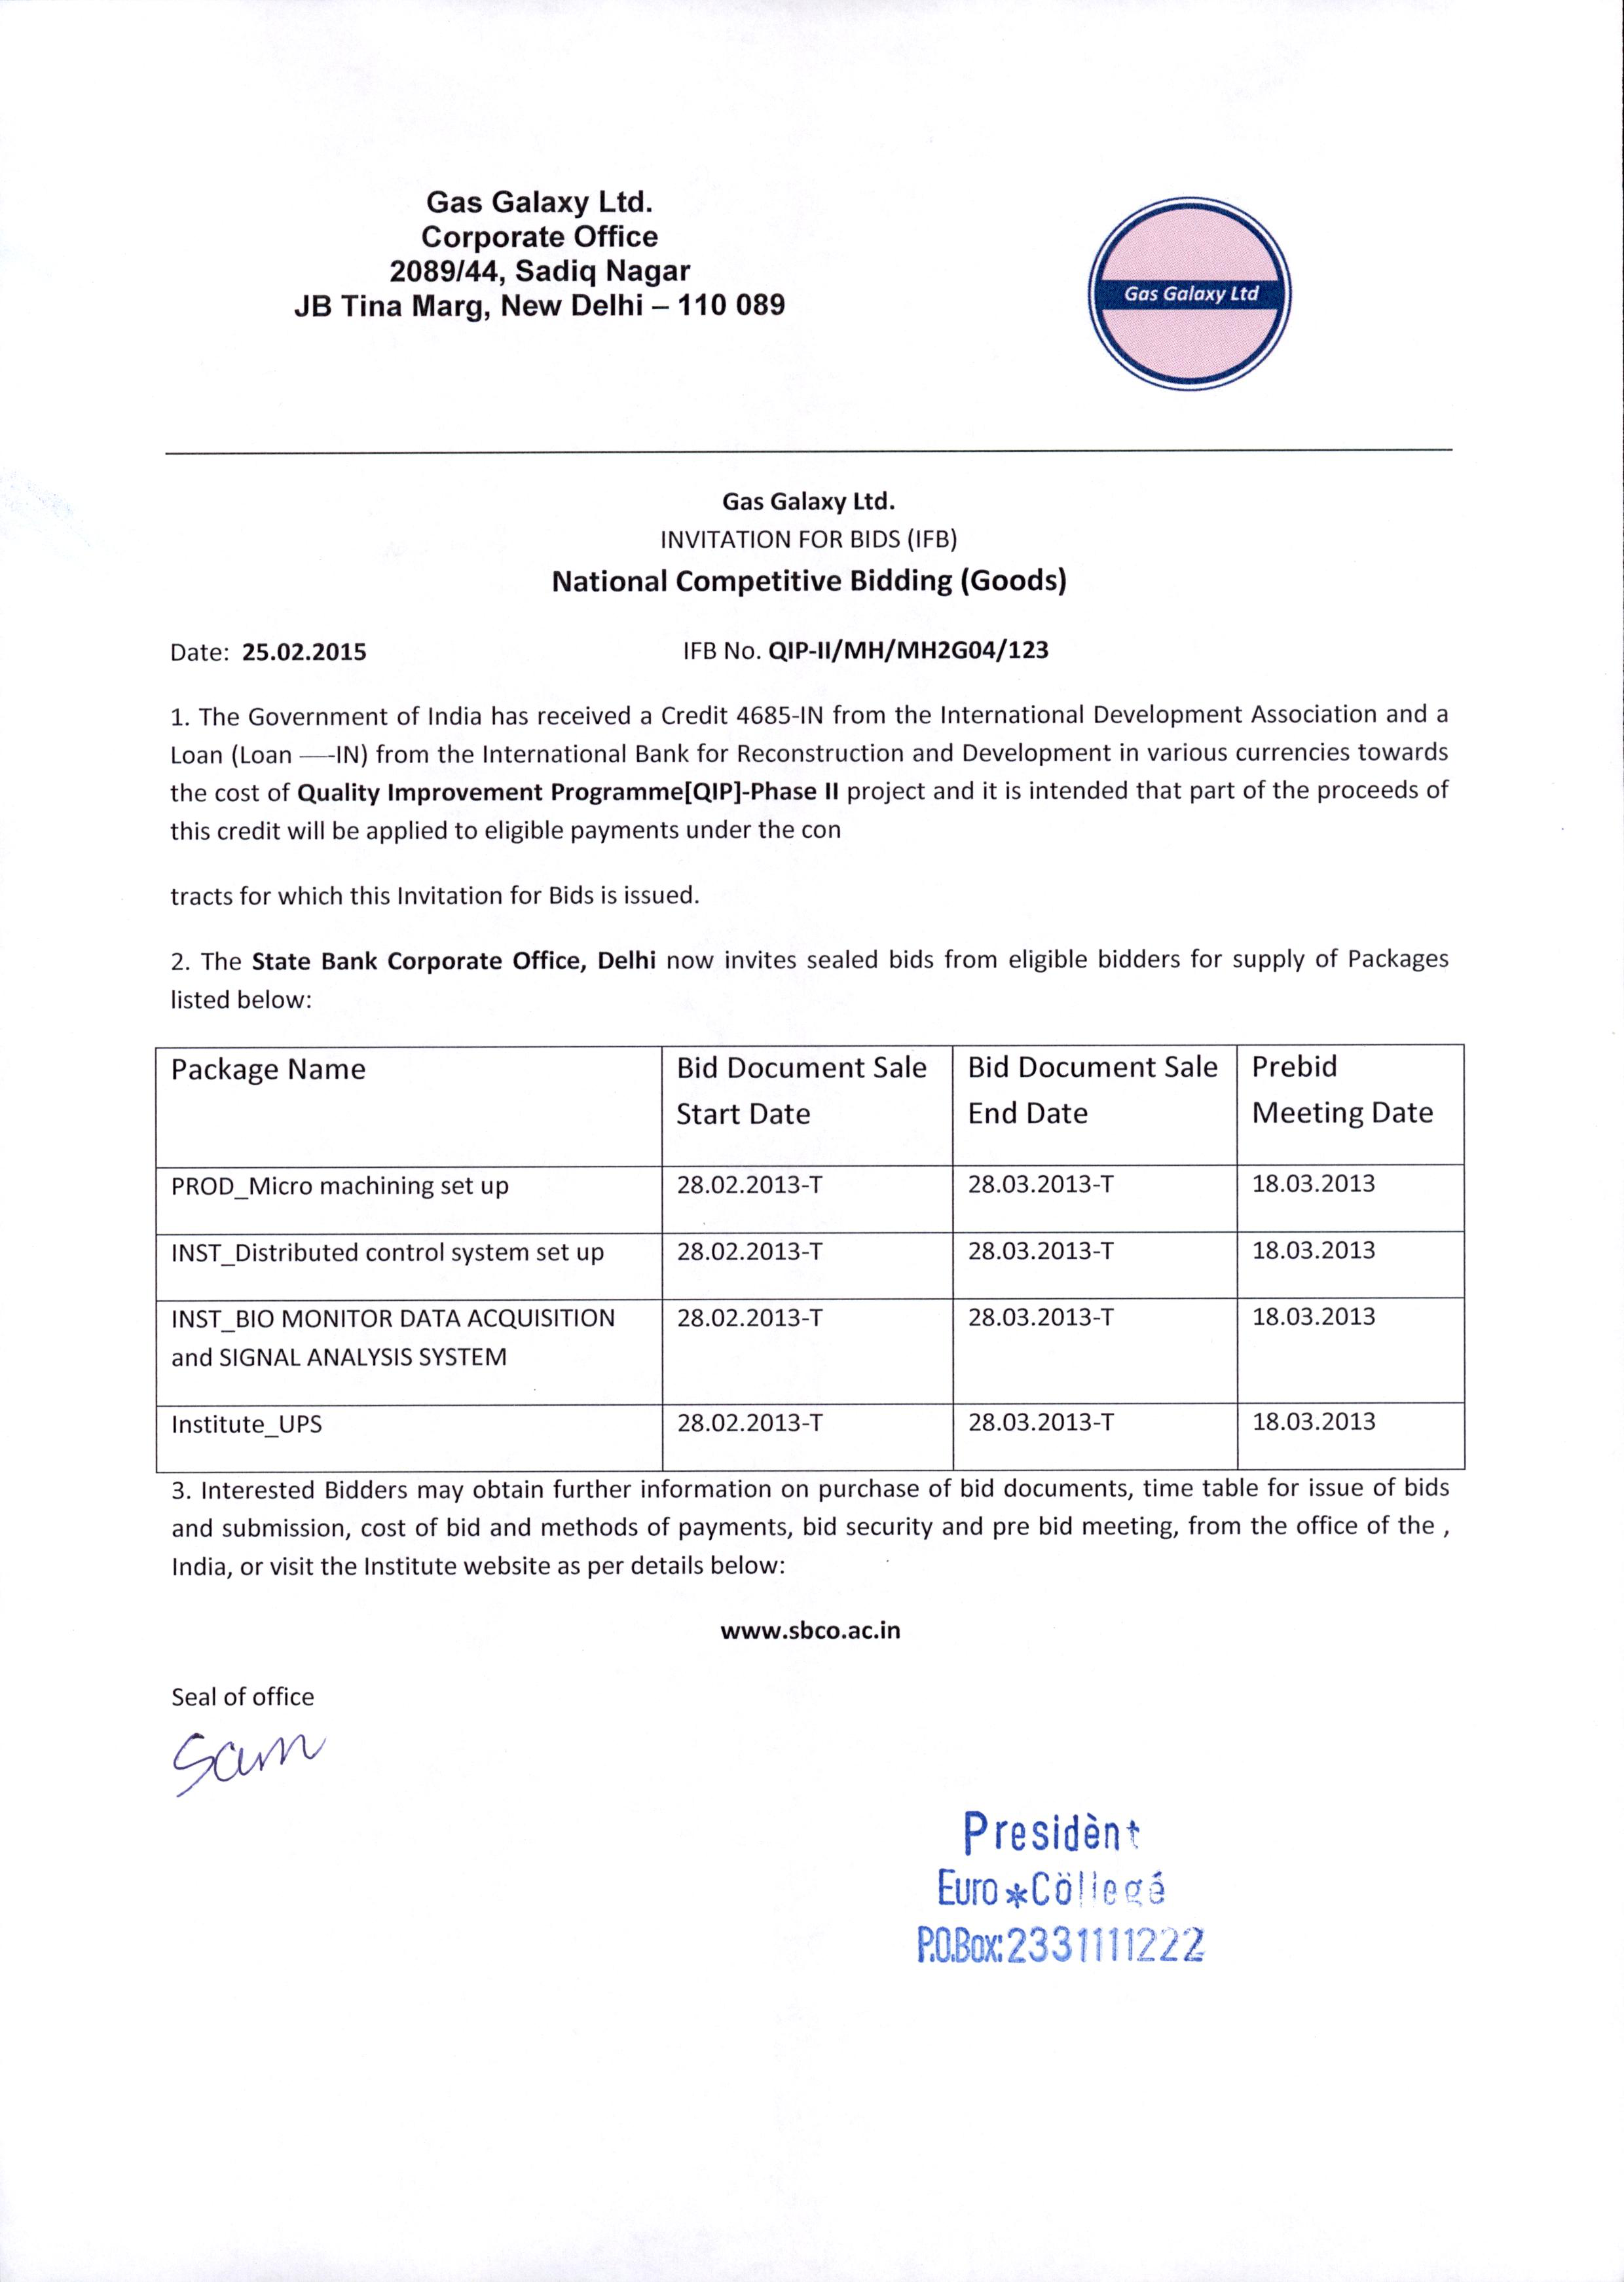Signature: (162, 1721, 334, 1807)
